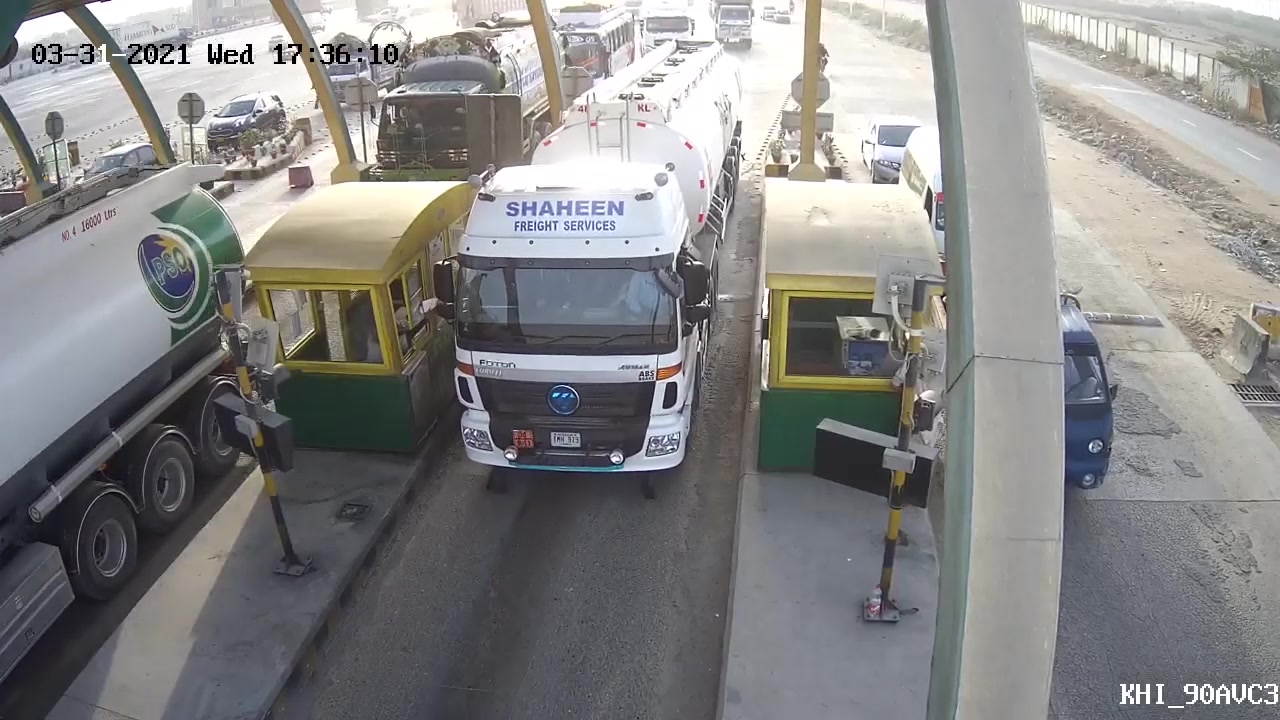F6: (440, 32, 751, 488)
